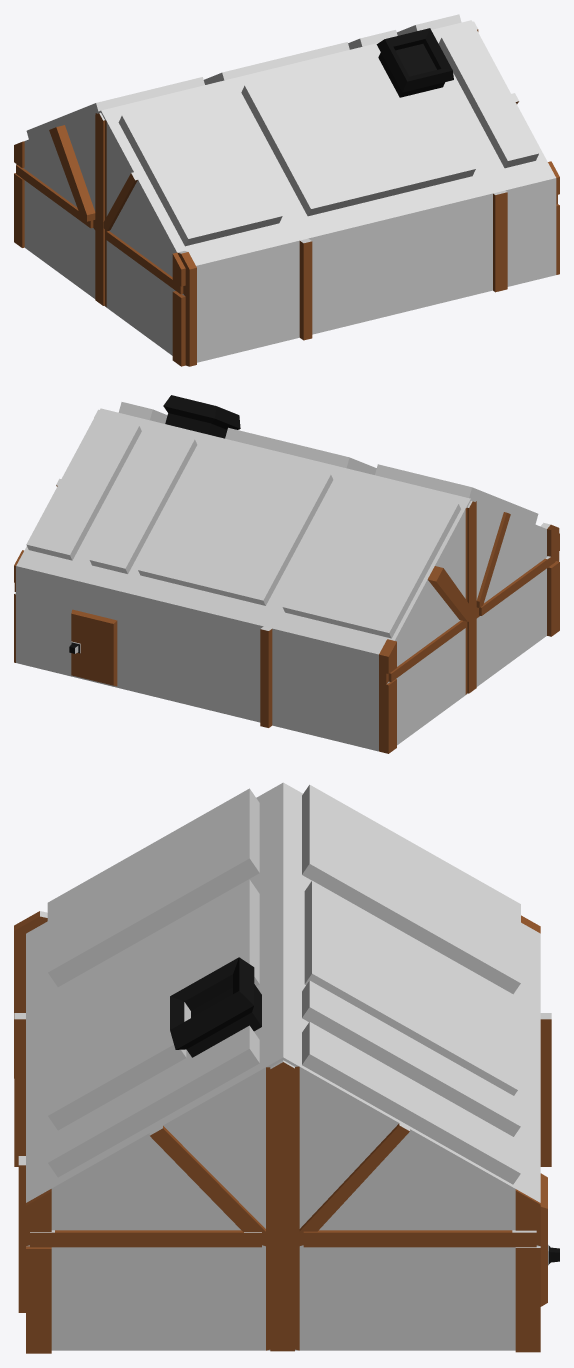
The model's file is house 3.fbx.
3 views of the same model, one above another, from view 1: azimuth 30°, elevation 25°; view 2: azimuth 150°, elevation 25°; view 3: azimuth 270°, elevation 25° (orthographic). The views are drawn at different scales.
Visible parts, largest first — view 1: Cube; view 2: Cube; view 3: Cube.
Boxes of the visible parts, x1,y1,x2,y2 form: Cube: (14,14,559,366); Cube: (14,395,559,753); Cube: (14,782,559,1353).
Size of the model in its own units: 434 by 227 by 353.
